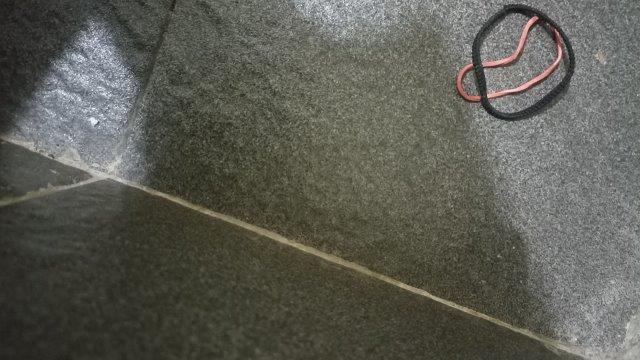karet: (456, 4, 576, 120)
